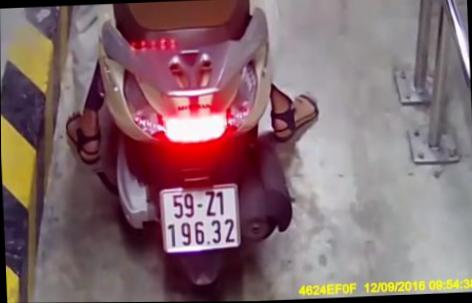LP: (161, 184, 242, 252)
